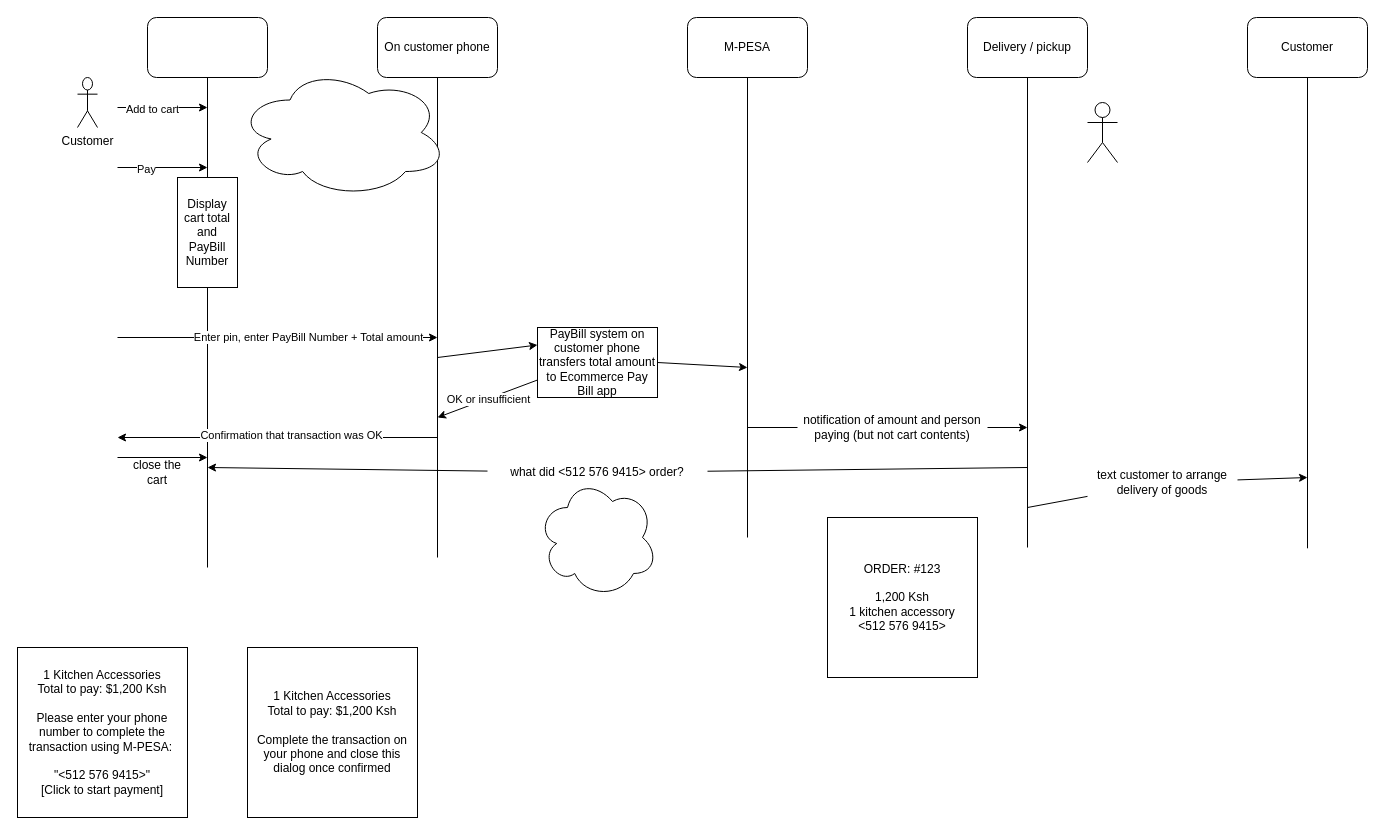
Some shapes in this 1385 by 835 pixel diagram are drawn without their labels. The centre of each missing label's shape, as x and y in pixels:
Caroline: the point at 1102,132
E-commerce site: the point at 207,47
how does Caroline know what Erik just paid for?: the point at 597,537
what about inventory?: the point at 342,132
